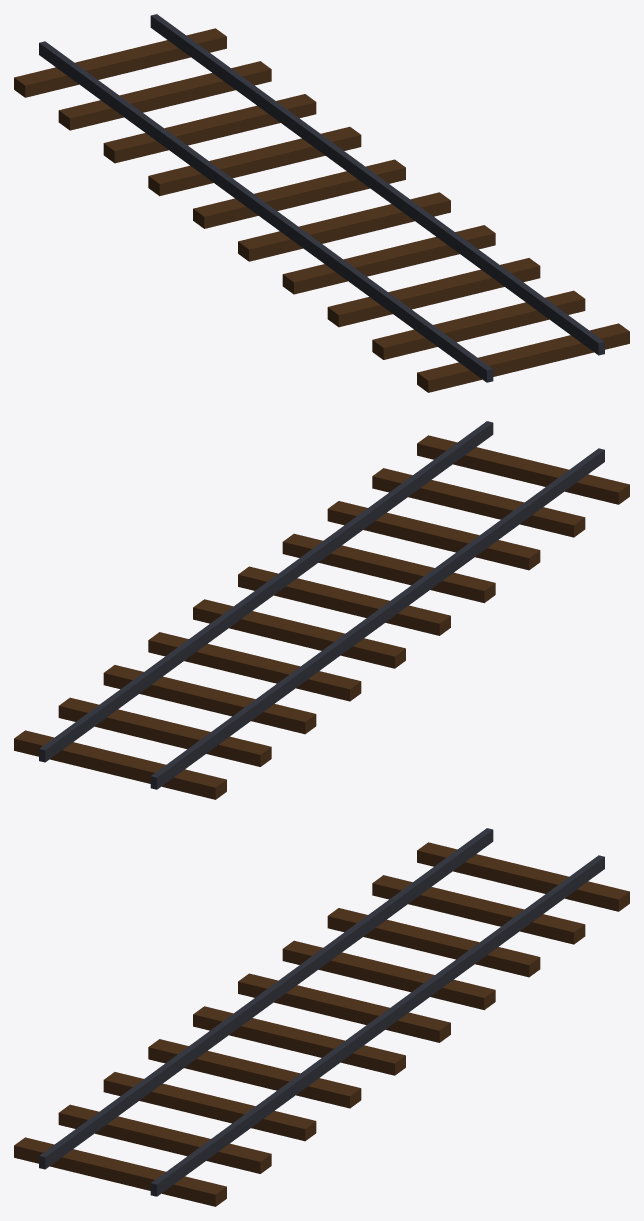
The model's file is rail_track_10m.glb.
3 views of the same model, one above another, from view 1: azimuth 30°, elevation 25°; view 2: azimuth 150°, elevation 25°; view 3: azimuth 330°, elevation 25° (orthographic).
Parts seen in each view (by area): view 1: model; view 2: model; view 3: model.
Boxes of the visible parts, x1,y1,x2,y2 form: model: (14, 14, 629, 392); model: (14, 421, 629, 799); model: (14, 828, 629, 1206).
Size of the model in its own units: 2.6 by 0.3 by 10.
